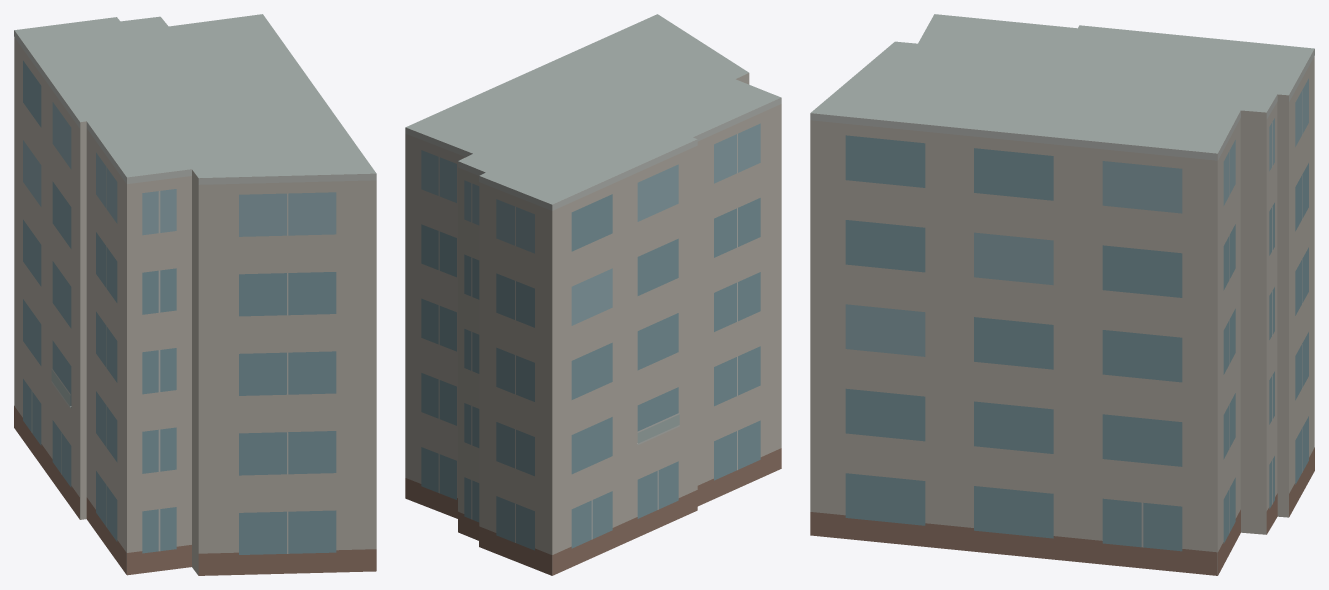
The model's file is survey-upis-32624983.glb.
3 renders of one model, left to right at view 1: azimuth 30°, elevation 25°; view 2: azimuth 150°, elevation 25°; view 3: azimuth 270°, elevation 25°, orthographic. The views are drawn at different scales.
Visible parts, largest first — view 1: survey-upis-32624983.tmp; view 2: survey-upis-32624983.tmp; view 3: survey-upis-32624983.tmp.
Part boxes in pixels (left/top/right/bottom): survey-upis-32624983.tmp: left=14, top=14, right=376, bottom=575; survey-upis-32624983.tmp: left=405, top=14, right=781, bottom=575; survey-upis-32624983.tmp: left=810, top=14, right=1314, bottom=575.
Size of the model in its own units: 10.26 by 14.45 by 15.66.
